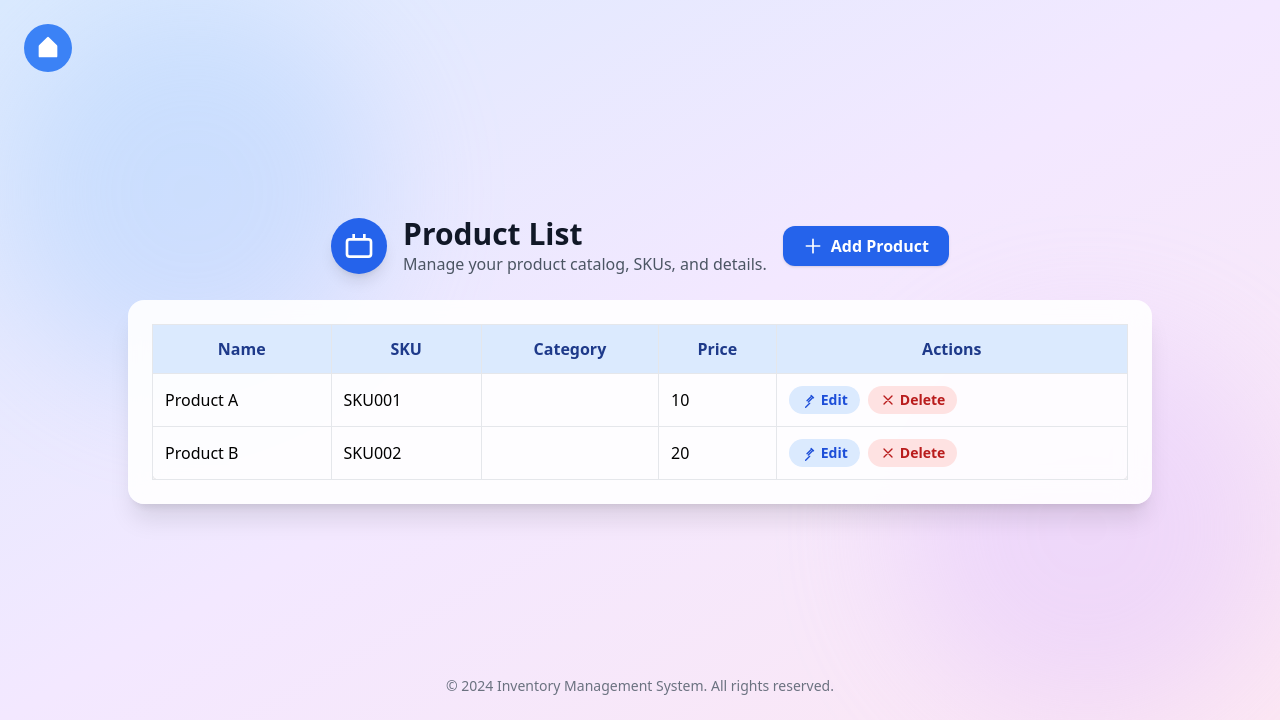
Test: ProductListPage › deletes a product and refreshes the list
expect the text "Product A" is shown: met, box [152, 374, 331, 426]
Click the button "Delete" in the row of "Product A" at (913, 400), box [868, 386, 957, 414]
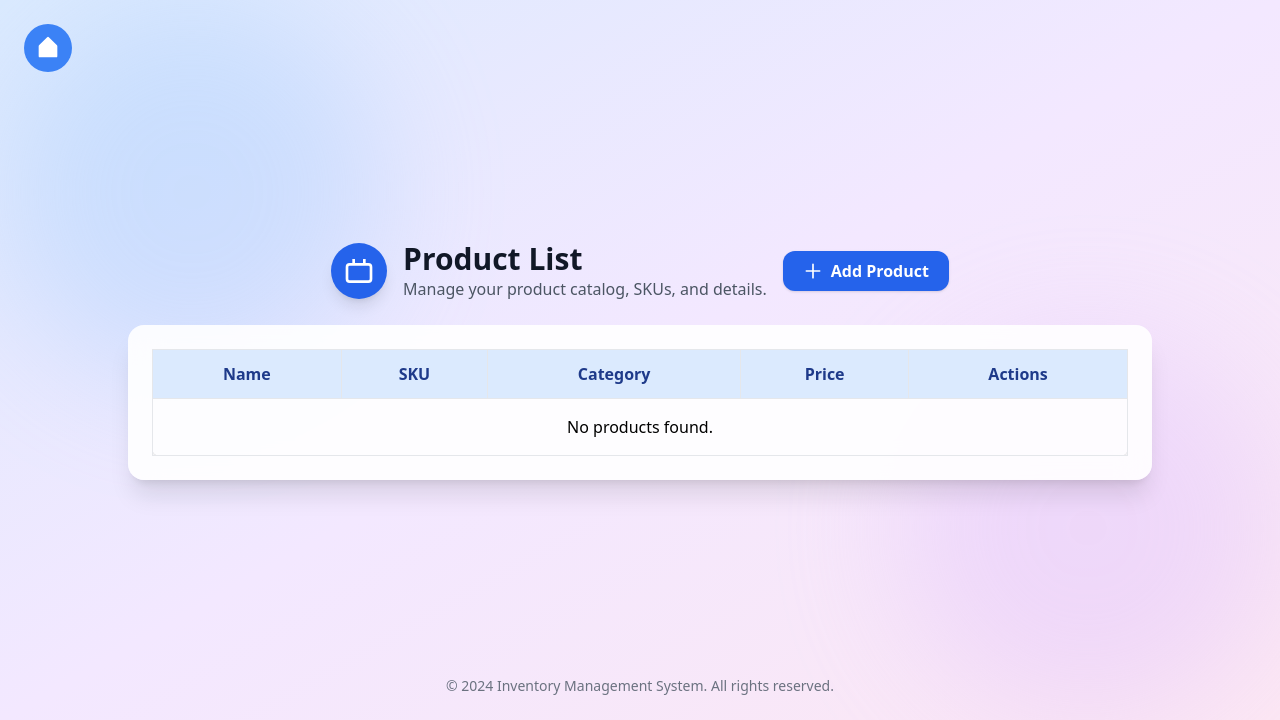
expect the text "No products found." is shown: met, box [152, 398, 1128, 455]
